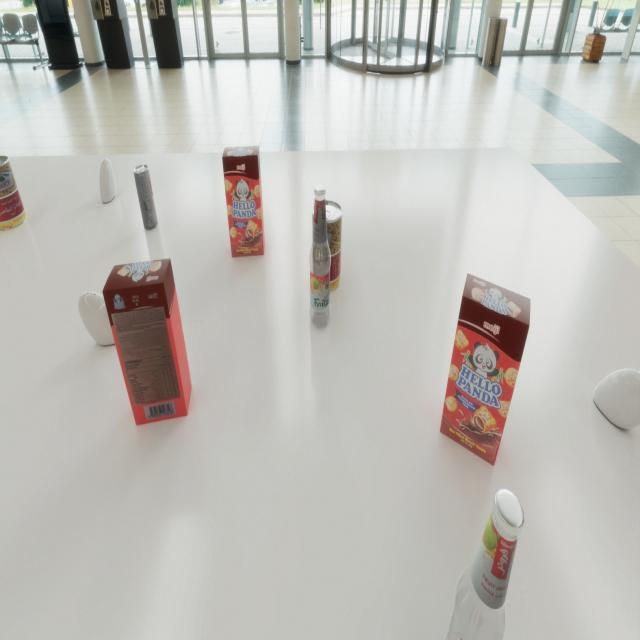Bottle: (438, 489, 524, 640), (309, 184, 331, 328)
HelloPanda: (440, 273, 530, 466), (102, 258, 192, 426), (222, 146, 265, 258)
Potato_sticks: (312, 200, 342, 292)
Rita_zero_sugar: (133, 164, 158, 230)
Salt: (593, 368, 640, 429), (78, 292, 127, 345), (99, 158, 116, 203)
